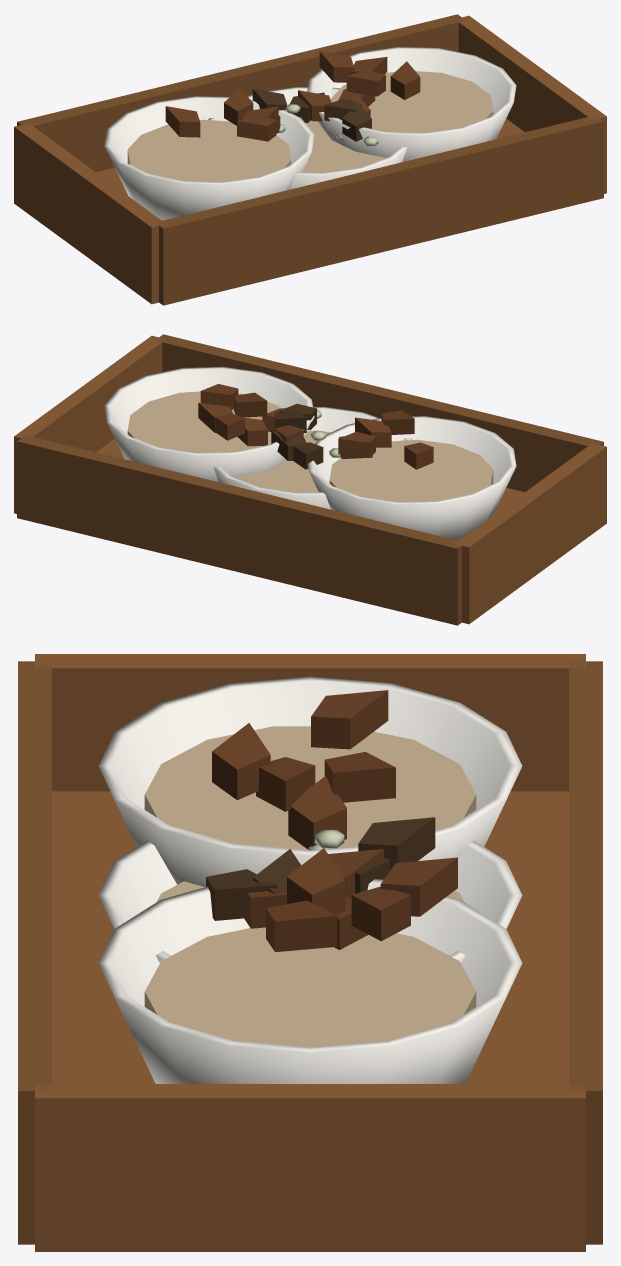
File: Soup_Mushroom.fbx
3 views of the same model, one above another, from view 1: azimuth 30°, elevation 25°; view 2: azimuth 150°, elevation 25°; view 3: azimuth 270°, elevation 25° (orthographic). The views are drawn at different scales.
Parts seen in each view (by area): view 1: Soup_Mushroom__Stack, Soup_Mushroom, Soup_Mushroom__Rotten; view 2: Soup_Mushroom__Stack, Soup_Mushroom, Soup_Mushroom__Rotten; view 3: Soup_Mushroom__Stack, Soup_Mushroom, Soup_Mushroom__Rotten.
Boxes of the visible parts, x1,y1,x2,y2 form: Soup_Mushroom__Stack: (14,14,606,305); Soup_Mushroom: (208,86,407,189); Soup_Mushroom__Rotten: (252,88,378,145); Soup_Mushroom__Stack: (14,334,606,625); Soup_Mushroom: (213,406,412,509); Soup_Mushroom__Rotten: (271,404,340,469); Soup_Mushroom__Stack: (18,654,602,1251); Soup_Mushroom: (98,776,522,962); Soup_Mushroom__Rotten: (206,817,435,920).
Size of the model in its own units: 0.248 by 0.0574 by 0.138.
